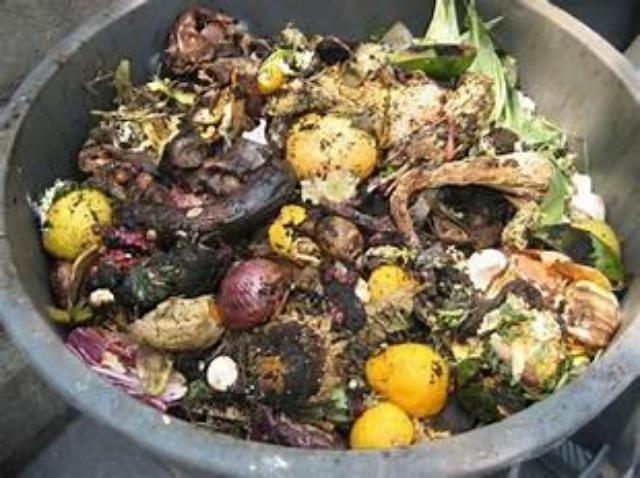Garbage: (34, 0, 633, 458)
